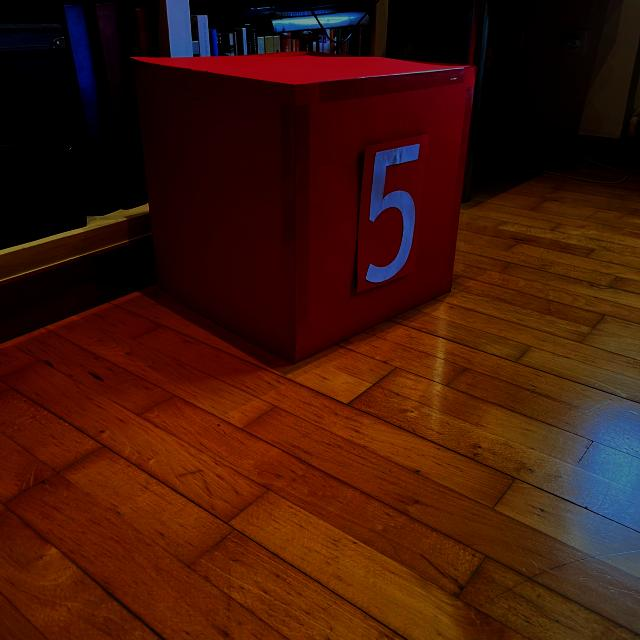box: (127, 48, 480, 366)
